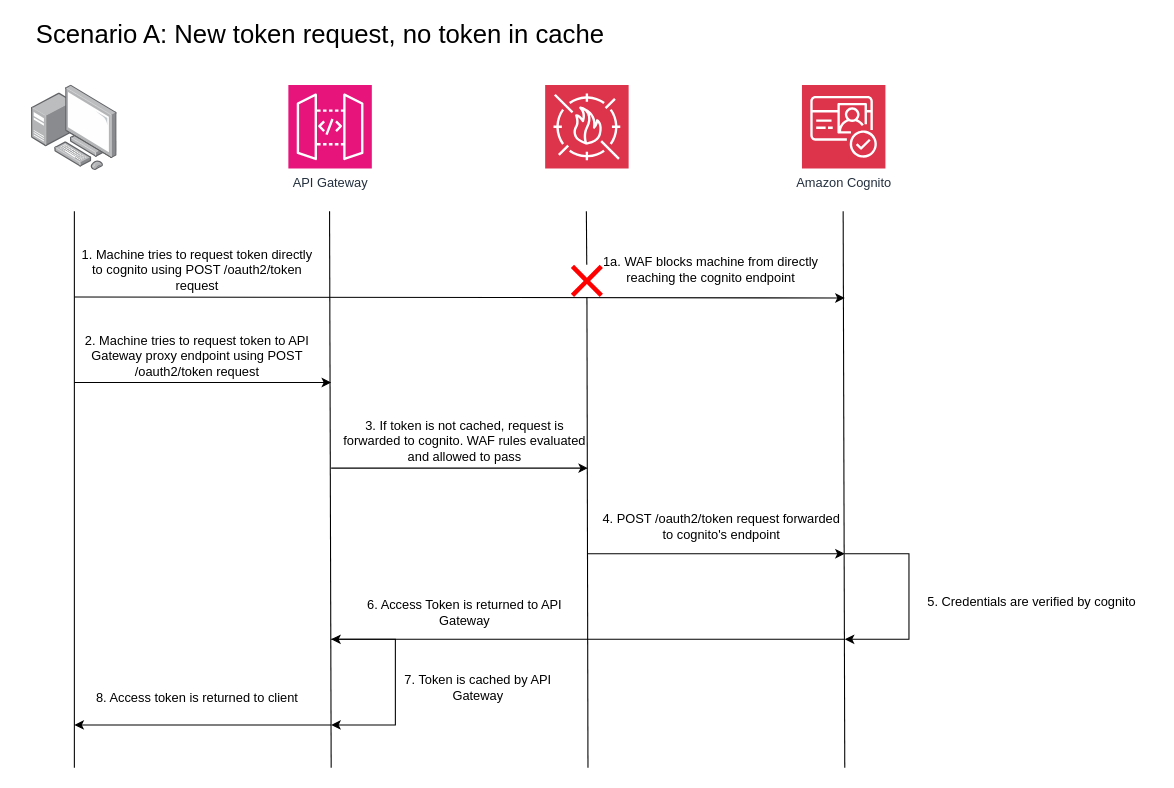
Image size: 1174x788. Some labels were removed from this diagram. Each missing label, with the box of its shape:
AWS WAF: (544, 84, 629, 169)
Machine requesting token: (31, 85, 117, 170)
